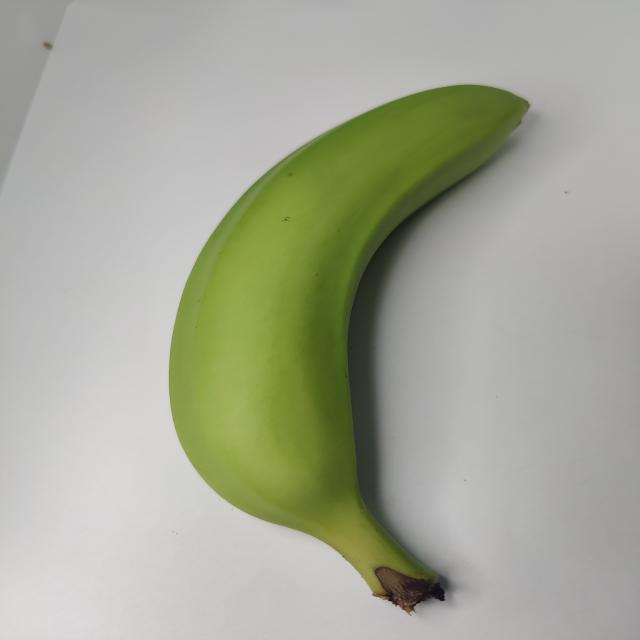raw: (130, 71, 576, 594)
